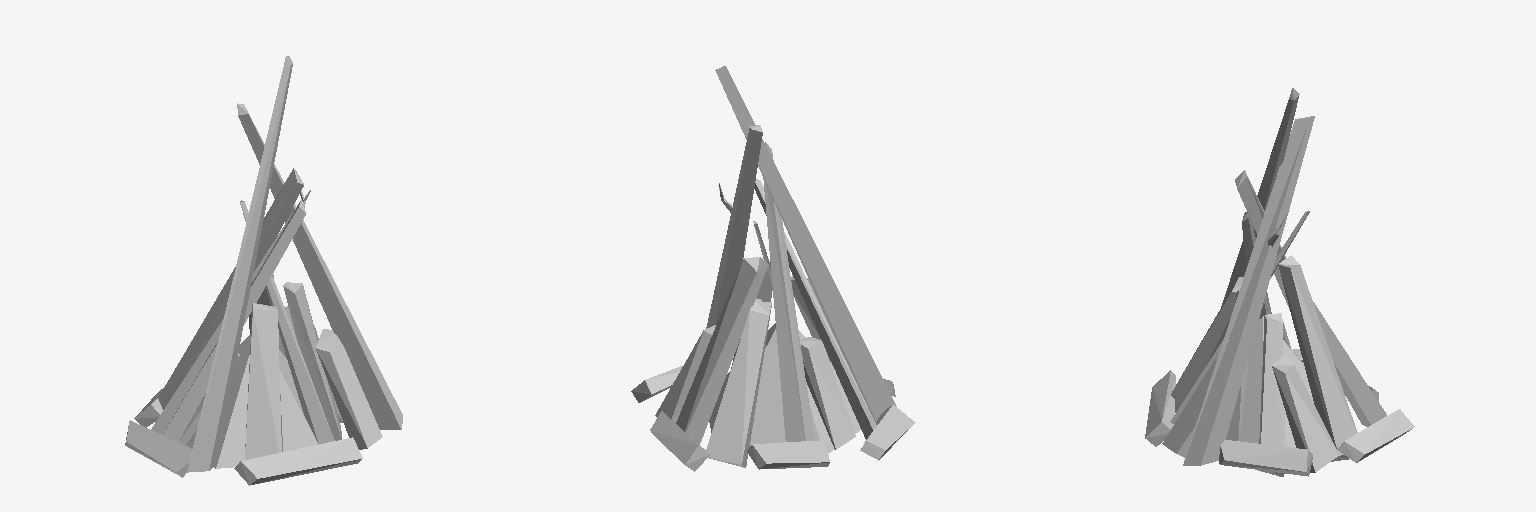
Rendered from bonfire.obj.
3 views of the same model, side by side, from view 1: azimuth 30°, elevation 25°; view 2: azimuth 150°, elevation 25°; view 3: azimuth 270°, elevation 25° (orthographic).
Parts seen in each view (by area): view 1: world/azeroth/burningsteppes/passivedoodads/bonfire/orcbonfire.; view 2: world/azeroth/burningsteppes/passivedoodads/bonfire/orcbonfire.; view 3: world/azeroth/burningsteppes/passivedoodads/bonfire/orcbonfire..
Boxes of the visible parts, x1,y1,x2,y2 form: world/azeroth/burningsteppes/passivedoodads/bonfire/orcbonfire.: [125, 56, 402, 485]; world/azeroth/burningsteppes/passivedoodads/bonfire/orcbonfire.: [631, 66, 915, 471]; world/azeroth/burningsteppes/passivedoodads/bonfire/orcbonfire.: [1145, 88, 1414, 476].
Size of the model in its own units: 3.98 by 5.72 by 3.76.